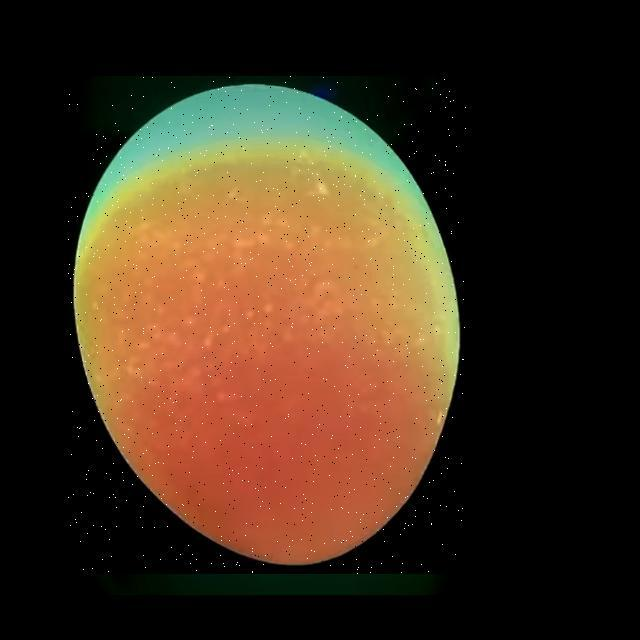Infertile: (68, 76, 466, 574)
